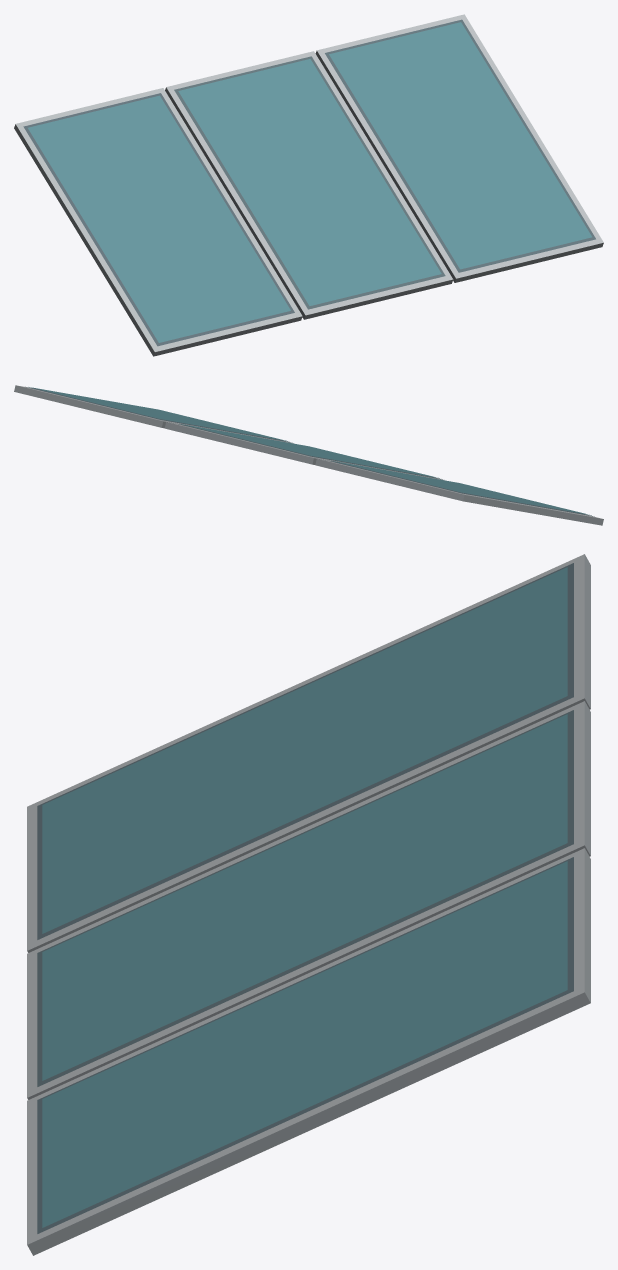
The model's file is solar.lod2.glb.
The picture shows the model from 3 angles, top to bottom: view 1: azimuth 30°, elevation 25°; view 2: azimuth 150°, elevation 25°; view 3: azimuth 270°, elevation 25°; orthographic projection. The views are drawn at different scales.
Bounding box in the file's own units: 3.98 × 1.12 × 2.16.
